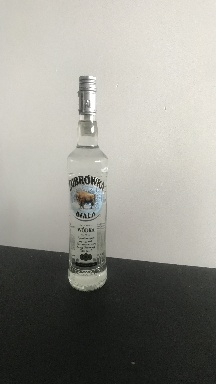butelka: (65, 72, 109, 294)
